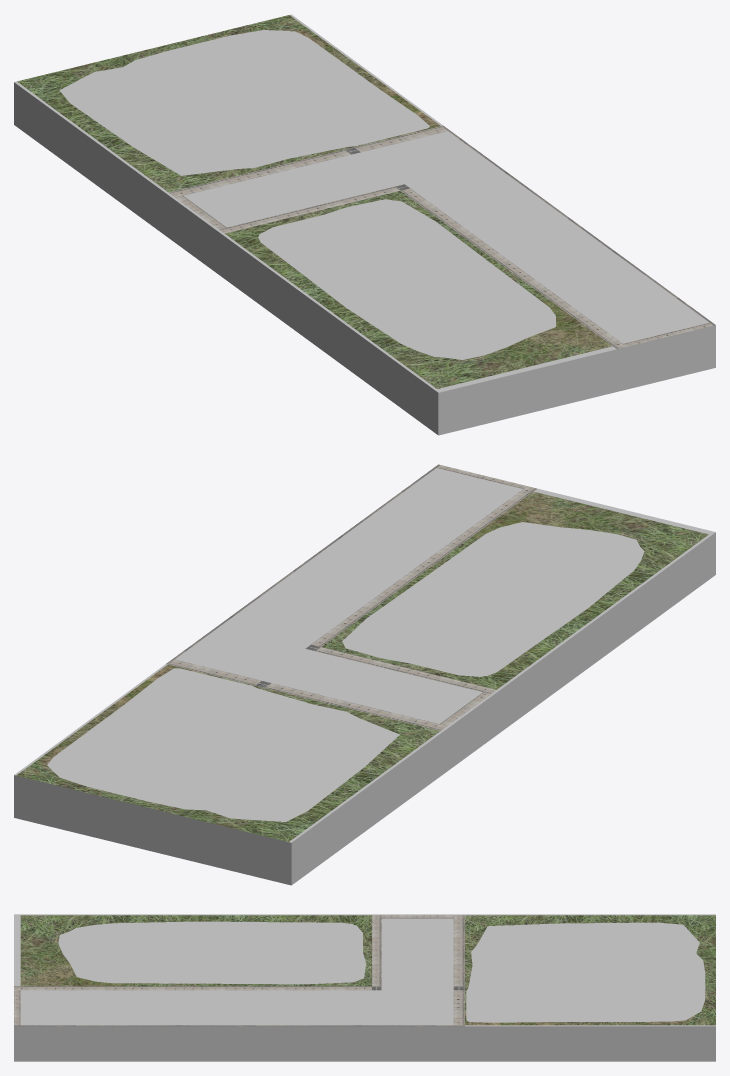
The picture shows the model from 3 angles, top to bottom: view 1: azimuth 30°, elevation 25°; view 2: azimuth 150°, elevation 25°; view 3: azimuth 270°, elevation 25°; orthographic projection. The views are drawn at different scales.
Parts seen in each view (by area): view 1: BB_020c2; view 2: BB_020c2; view 3: BB_020c2.
Part boxes in pixels (box(x1,y1,x2,y2)): BB_020c2: box(14, 14, 715, 435); BB_020c2: box(14, 464, 715, 885); BB_020c2: box(14, 914, 715, 1061).
Bounding box in the file's own units: 13.59 × 2 × 36.
